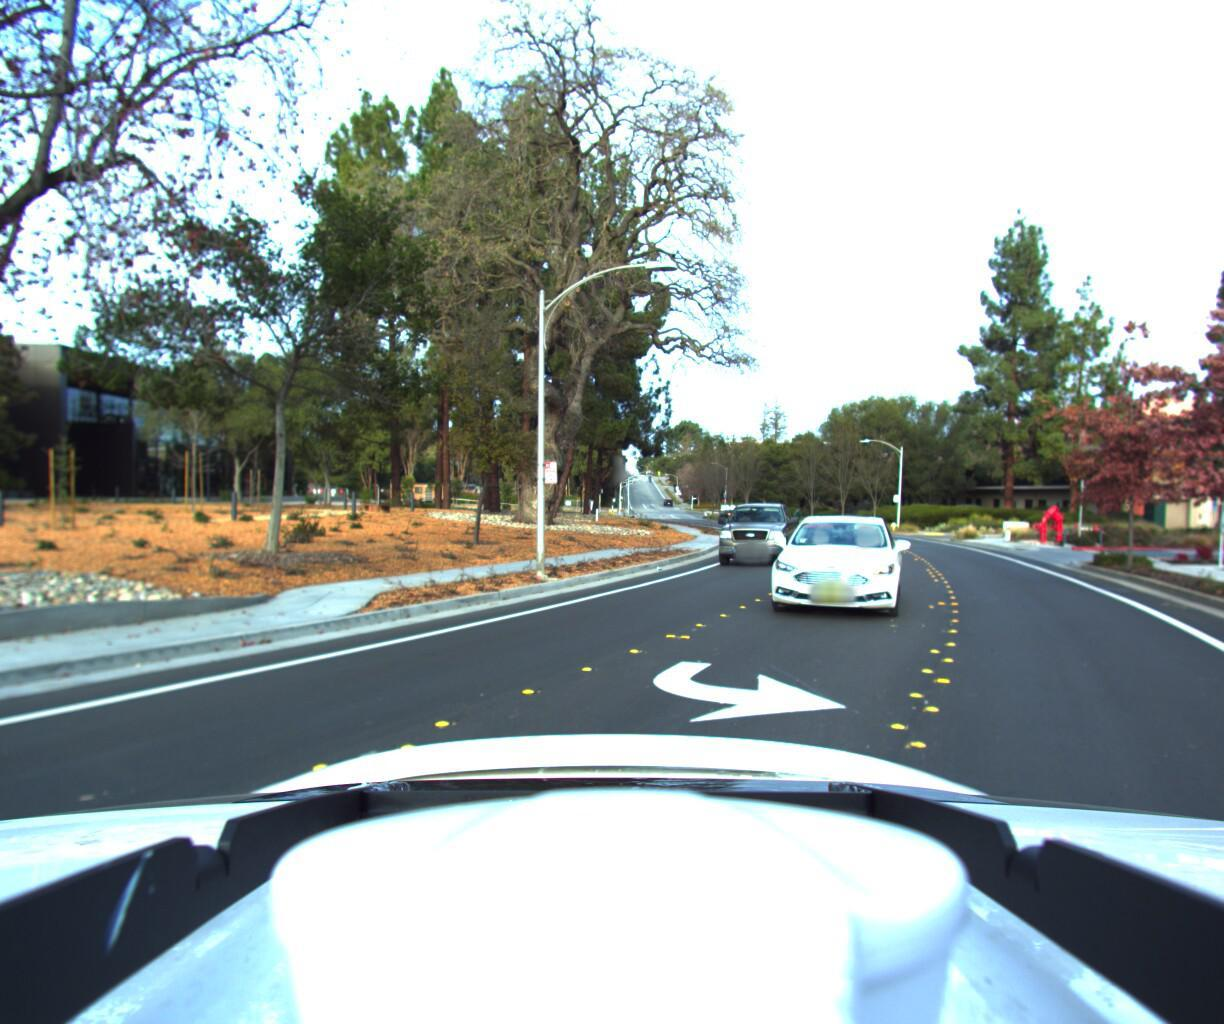car: (744, 504, 910, 633), (700, 493, 799, 570)
